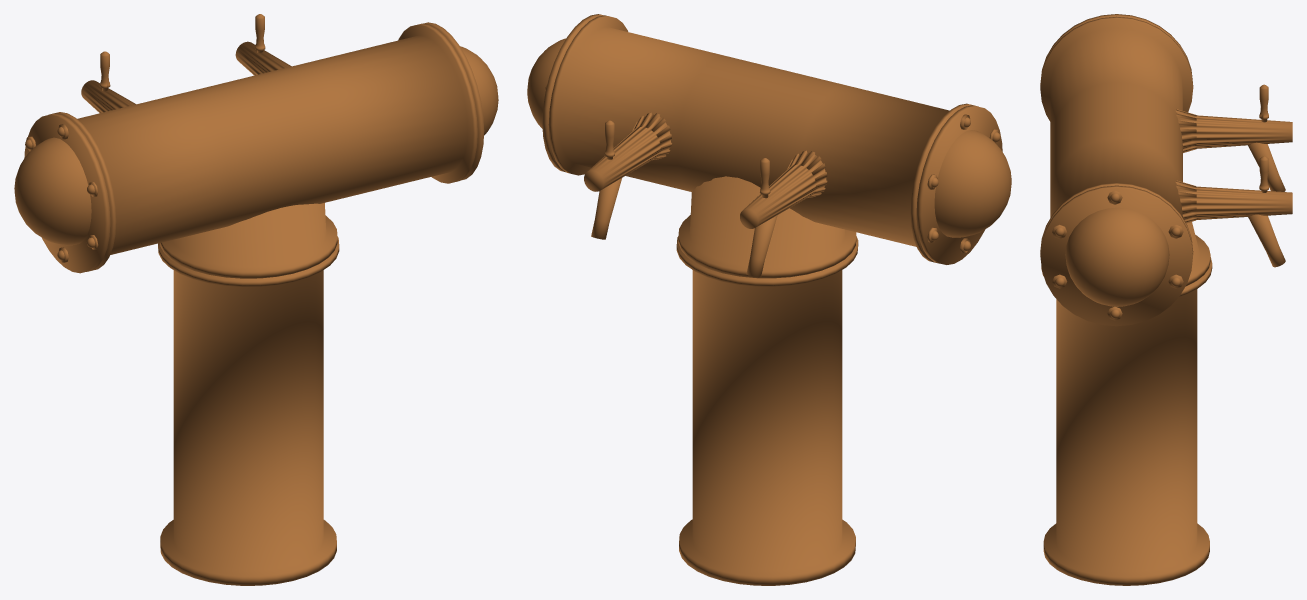
The model's file is pipa.fbx.
3 renders of one model, left to right at view 1: azimuth 30°, elevation 25°; view 2: azimuth 150°, elevation 25°; view 3: azimuth 270°, elevation 25°, orthographic. The views are drawn at different scales.
Parts seen in each view (by area): view 1: Cylinder; view 2: Cylinder; view 3: Cylinder.
Part boxes in pixels (x1=…): Cylinder: x1=14, y1=14, x2=498, y2=585; Cylinder: x1=527, y1=14, x2=1011, y2=585; Cylinder: x1=1040, y1=14, x2=1292, y2=585.
Bounding box in the file's own units: 723 × 703 × 358.
